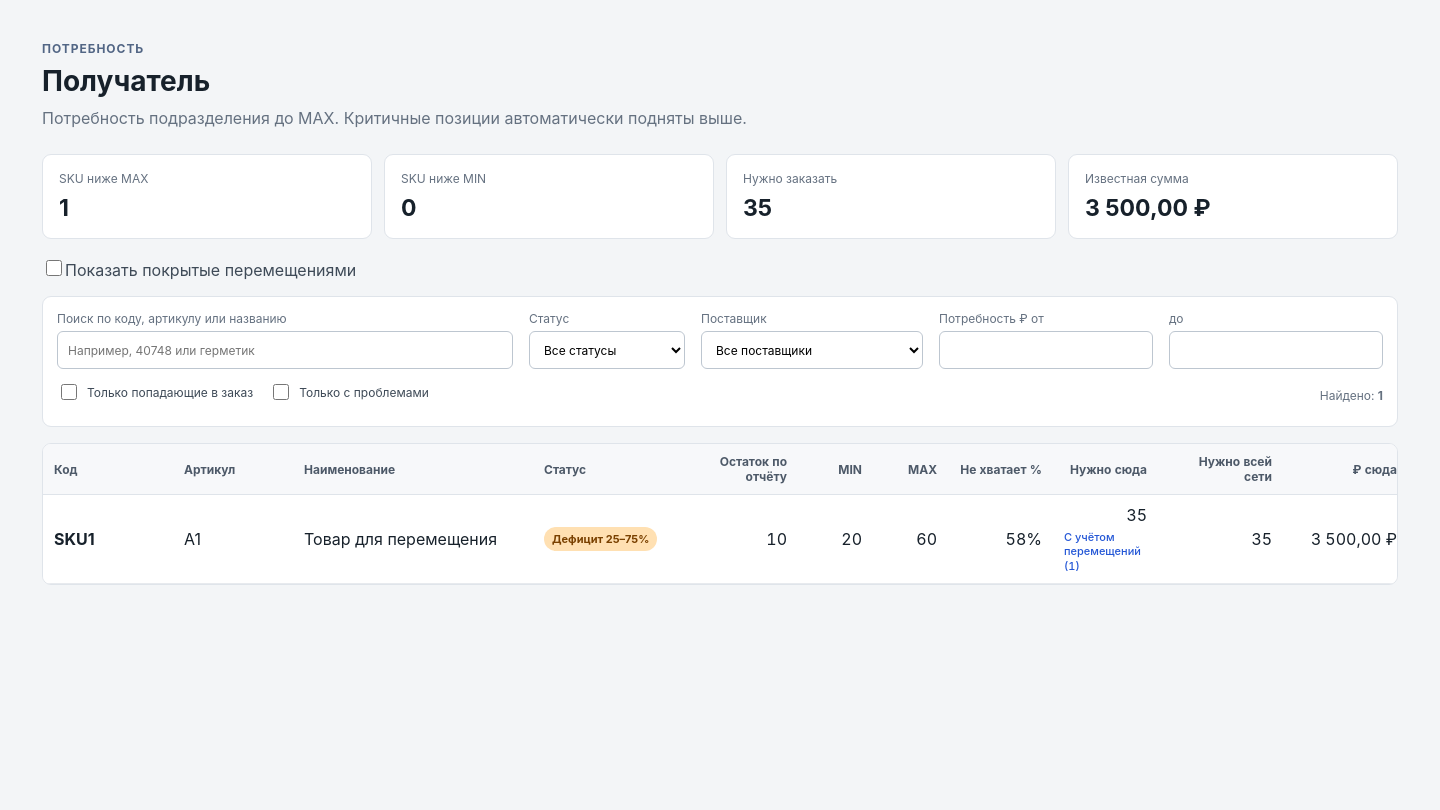
Test: shows effective need and status, with baseline and accepted movement in a compact popup
Expected: the row that starts with "SKU1" shows "35", [1126,505,1147,525]
Expected: the row that starts with "SKU1" does not show "Ниже MIN", [43,495,1397,584]
Click the button with aria-label "Учтённые перемещения" at coordinates (1106, 549), box [1064,525,1147,573]
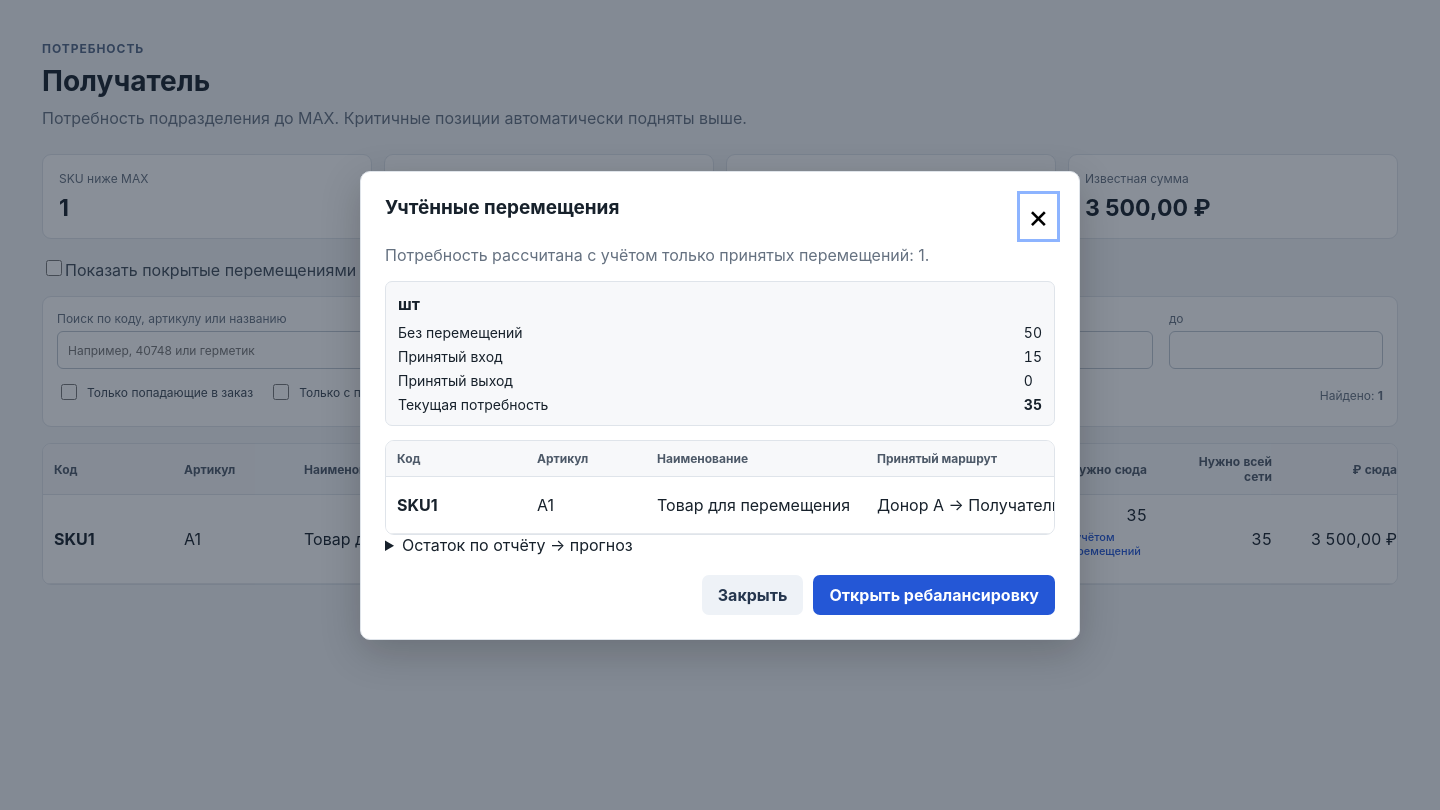
Expected: the dialog shows "50", [1024,324,1042,340]
Expected: the dialog shows "35", [1024,396,1042,412]
Expected: the dialog shows "15", [1024,348,1042,364]
